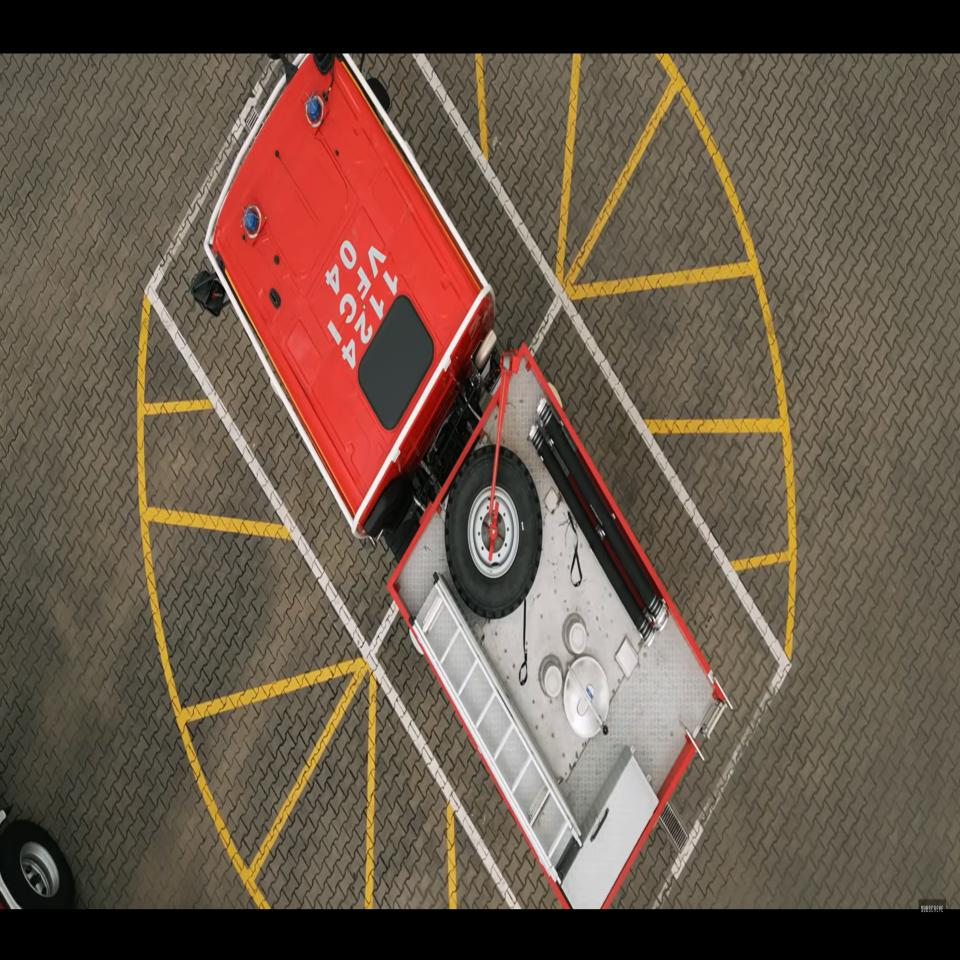viatura: (184, 52, 734, 912)
